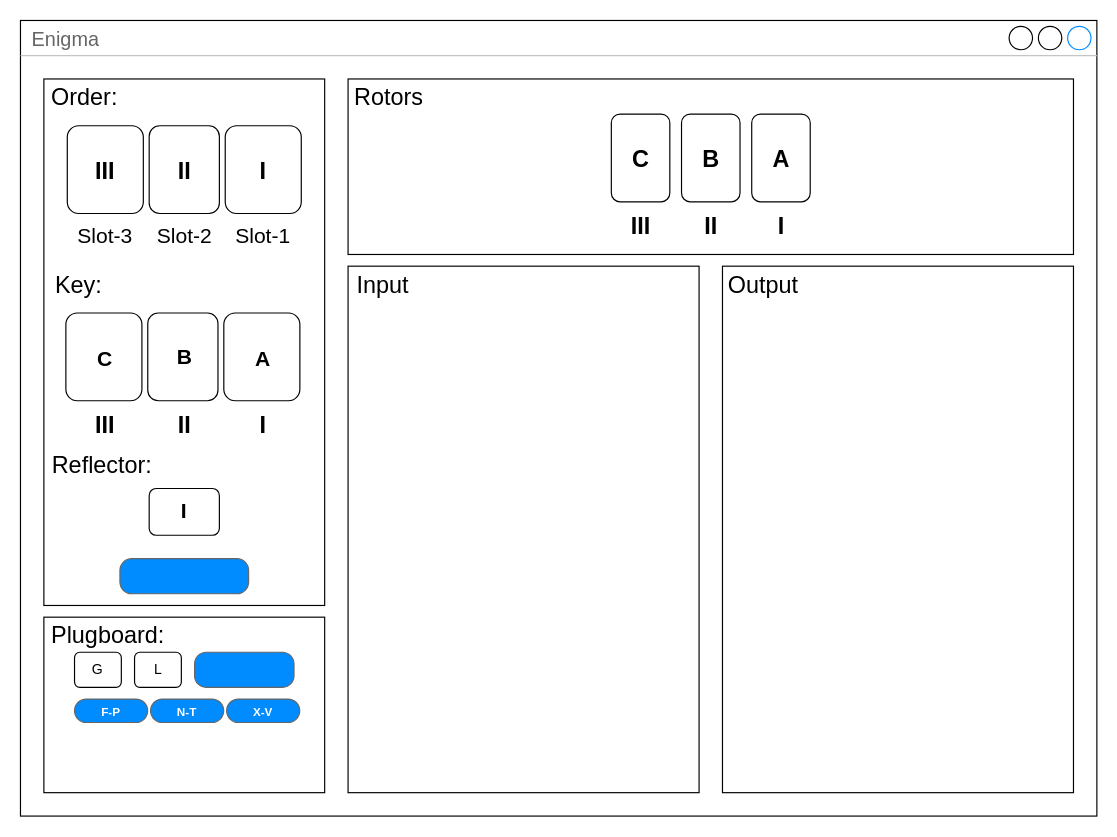
The diagram is 1117 pixels wide and 837 high, and some of its shapes have lost their labels. Each missing label, with the centre of its shape:
Confirm: point 184,576
Swap: point 243,669
